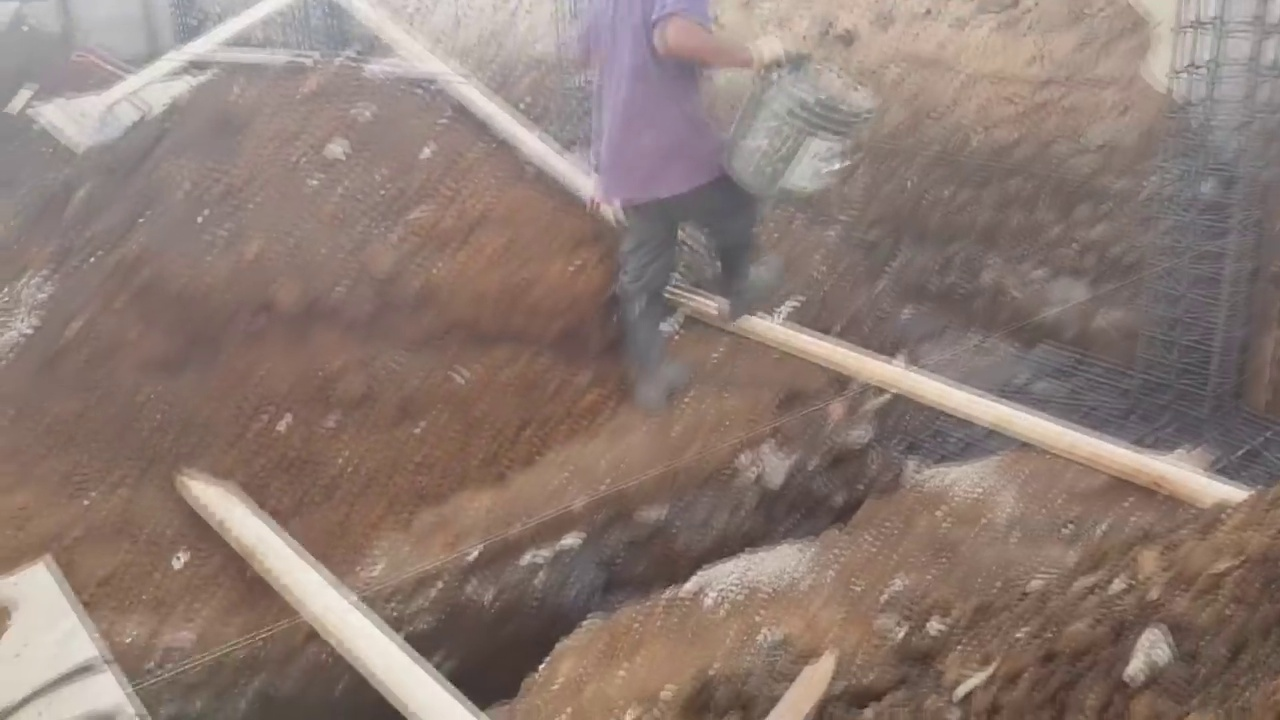person: (558, 0, 798, 410)
